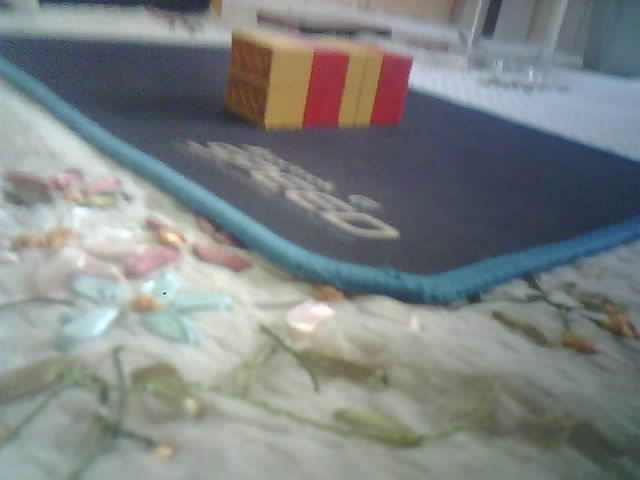lego: (220, 27, 414, 132)
